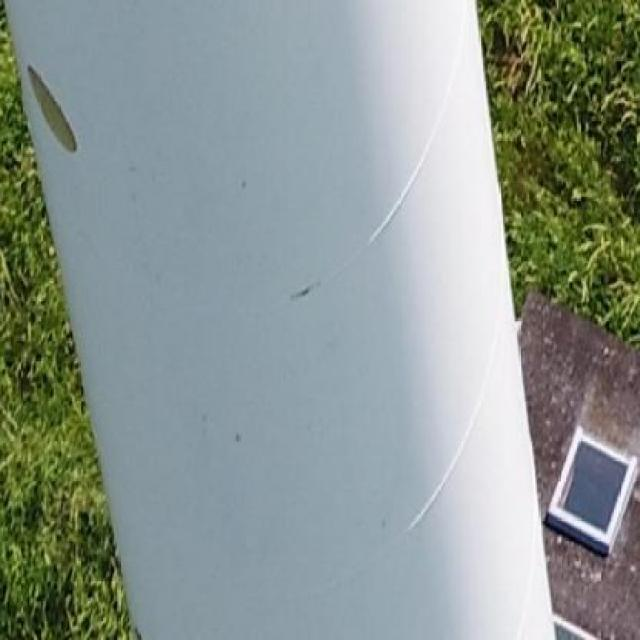Crack: (288, 278, 326, 302)
